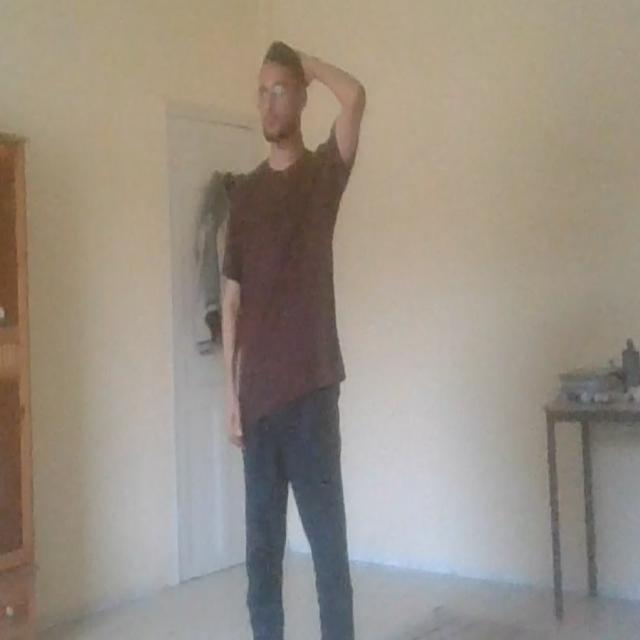non_violence: (210, 0, 372, 640), (216, 26, 378, 640)
